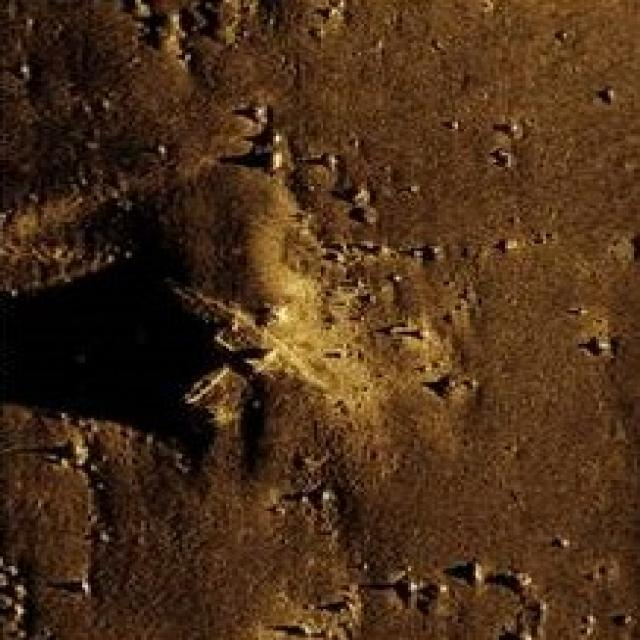plane: (158, 279, 323, 418)
